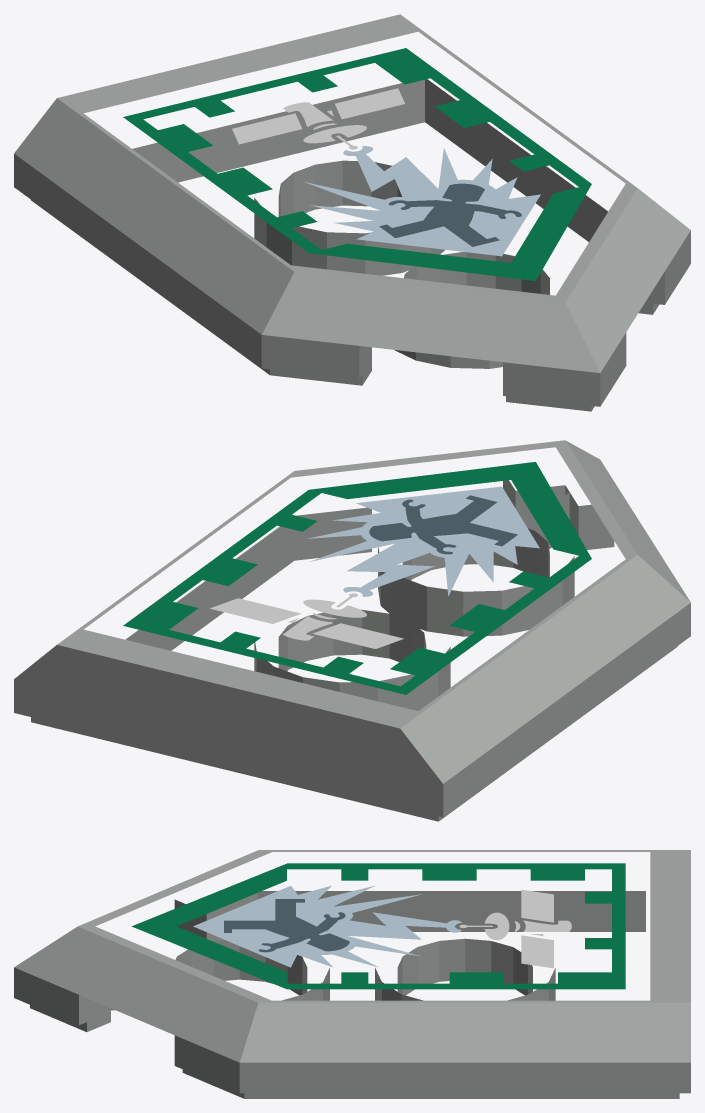
3 renders of one model, top to bottom at view 1: azimuth 30°, elevation 25°; view 2: azimuth 150°, elevation 25°; view 3: azimuth 270°, elevation 25°, orthographic. The views are drawn at different scales.
Parts seen in each view (by area): view 1: world; view 2: world; view 3: world.
Boxes of the visible parts, x1,y1,x2,y2 form: world: (14,14,690,411); world: (14,440,690,821); world: (14,850,690,1098).
Size of the model in its own units: 0.016 by 0.0032 by 0.024.
